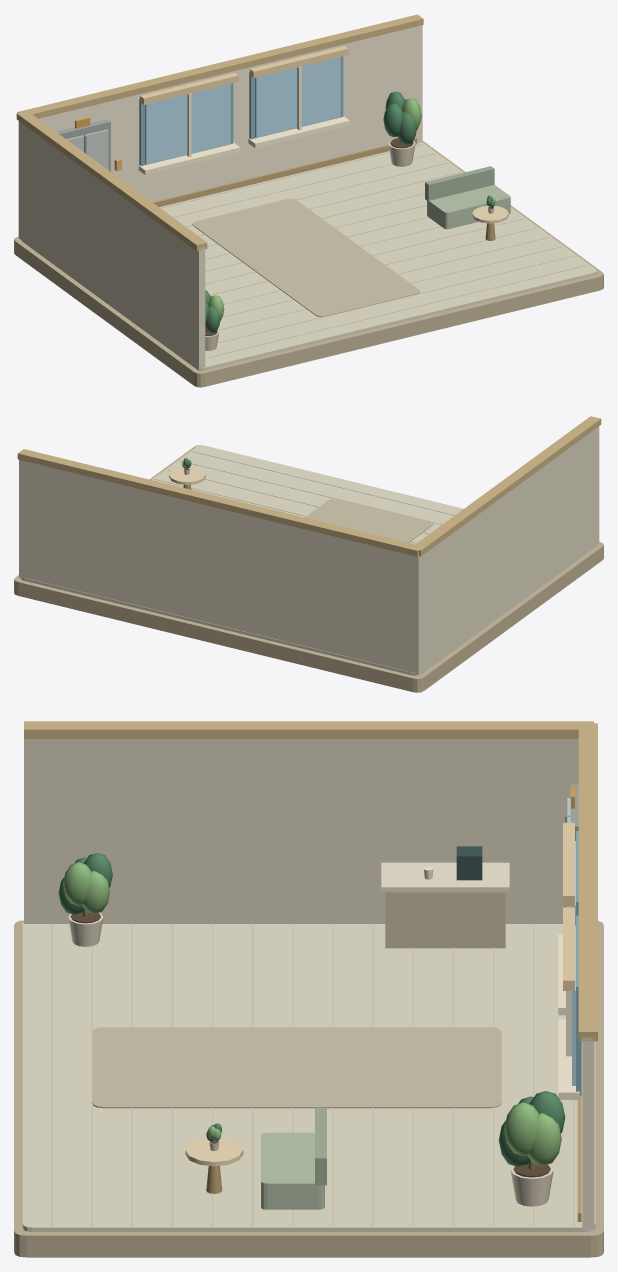
Rendered from room-starter.glb.
3 views of the same model, one above another, from view 1: azimuth 30°, elevation 25°; view 2: azimuth 150°, elevation 25°; view 3: azimuth 270°, elevation 25° (orthographic). The views are drawn at different scales.
Parts seen in each view (by area): view 1: room-starter; view 2: room-starter; view 3: room-starter.
Boxes of the visible parts, left/top/right/bottom form: room-starter: left=14, top=14, right=603, bottom=387; room-starter: left=14, top=416, right=603, bottom=692; room-starter: left=14, top=721, right=603, bottom=1257.
Bounding box in the file's own units: 9.3 × 3.05 × 7.35.
